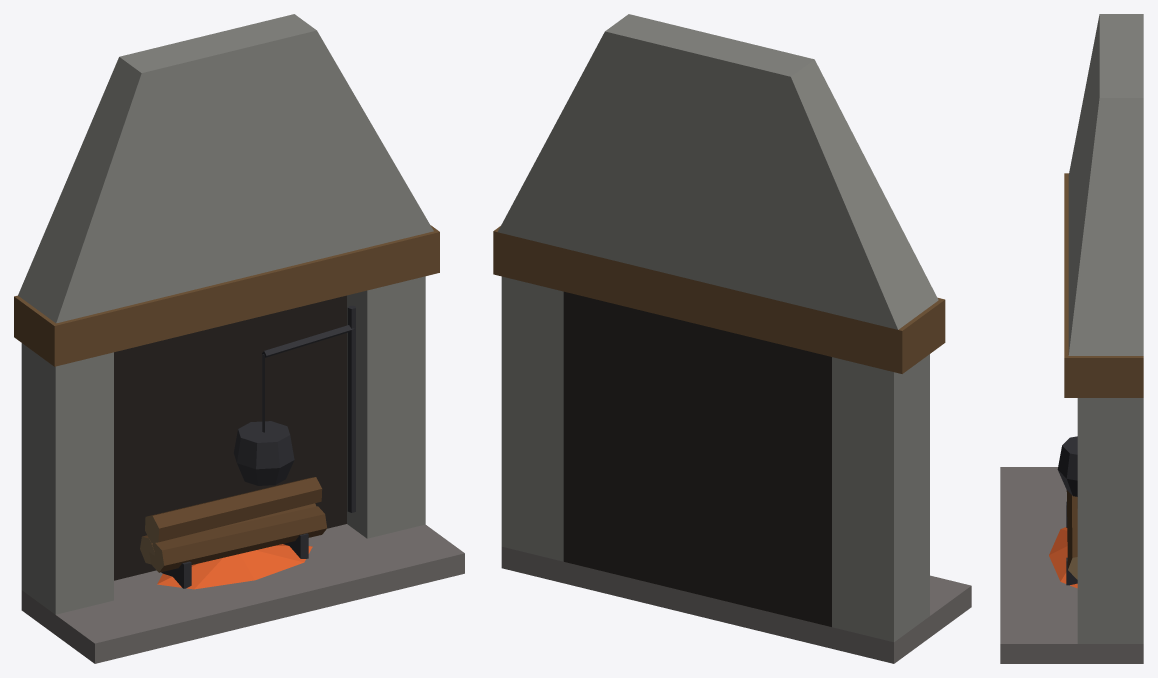
The model's file is Hearth.fbx.
3 renders of one model, left to right at view 1: azimuth 30°, elevation 25°; view 2: azimuth 150°, elevation 25°; view 3: azimuth 270°, elevation 25°, orthographic. The views are drawn at different scales.
Parts seen in each view (by area): view 1: Hearth; view 2: Hearth; view 3: Hearth.
Part boxes in pixels (x1=…): Hearth: x1=14, y1=14, x2=464, y2=663; Hearth: x1=493, y1=14, x2=971, y2=663; Hearth: x1=1000, y1=14, x2=1143, y2=663.
Bounding box in the file's own units: 1.98 × 2.6 × 0.65.
